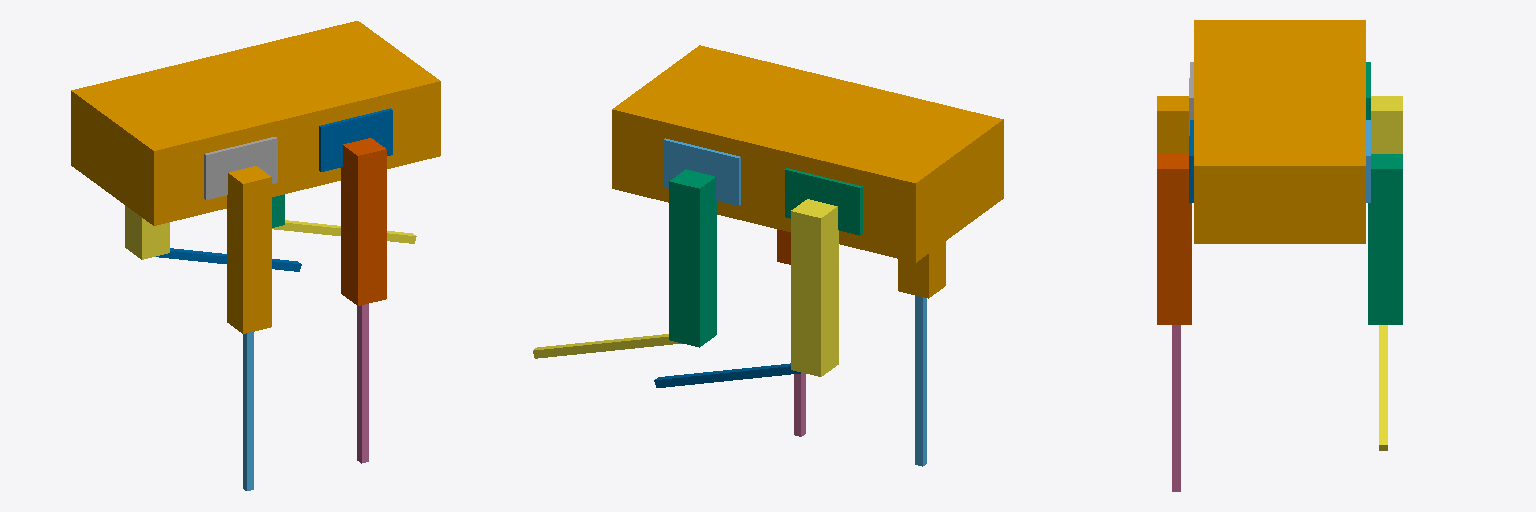
URDF robot description (robot):
<?xml version="1.0" ?>
<!-- =================================================================================== -->
<!-- |    This document was autogenerated by xacro from fixed_urdf.urdf.xacro          | -->
<!-- |    EDITING THIS FILE BY HAND IS NOT RECOMMENDED                                 | -->
<!-- =================================================================================== -->
<robot name="robot">
  <link name="base_link">
    <inertial auto="true"/>
    <visual>
      <geometry>
        <box size="0.254 0.127 0.0635"/>
      </geometry>
    </visual>
    <collision>
      <density>1240.0</density>
      <geometry>
        <box size="0.254 0.127 0.0635"/>
      </geometry>
    </collision>
  </link>
  <!-- <link name="lidar_link">
    <visual>
      <geometry>
        <box size="0.080 0.060 0.050"/>
      </geometry>
    </visual>
    <inertial>
      <origin xyz="0.000 0.000 0.000" rpy ="0.000 0.000 0.000"/>
      <mass value="0.050"/>
      <inertia ixx="0.00092" ixy="0.00000" ixz="0.00001" iyy="0.00094" iyz="0.00000" izz="0.00093"/>
    </inertial>
    <collision>
      <origin xyz="0.010 0.000 -0.015" rpy ="0.000 0.000 0.000"/>
      <geometry>
        <box size="0.080 0.060 0.050"/>
      </geometry>
    </collision>
  </link> -->
  <!-- FL -->
  <joint name="hip_fl" type="revolute">
    <limit effort="100" lower="-0.2" upper="0.4" velocity="10"/>
    <origin rpy="0 0 0" xyz="0.0508 0.0508 0"/>
    <parent link="base_link"/>
    <child link="hipbone_fl"/>
  </joint>
  <link name="hipbone_fl">
    <inertial auto="true"/>
    <visual>
      <origin rpy="0 0 0" xyz=" 0.0 0.0 0"/>
      <geometry>
        <box size="0.0635 0.03175 0.0381"/>
      </geometry>
    </visual>
    <collision>
      <origin rpy="0 0 0" xyz=" 0.0 0.0 0"/>
      <geometry>
        <box size="0.0635 0.03175 0.0381"/>
      </geometry>
    </collision>
  </link>
  <joint name="shoulder_fl" type="revolute">
    <limit effort="100" lower="-0.1" upper="0.5" velocity="10"/>
    <origin rpy="0 0 0" xyz="0 0 0"/>
    <axis xyz="0 1 0"/>
    <parent link="hipbone_fl"/>
    <child link="femur_fl"/>
  </joint>
  <link name="femur_fl">
    <inertial auto="true"/>
    <visual>
      <origin rpy="0 0 0" xyz="0.0 0.027 -0.0635"/>
      <geometry>
        <box size="0.0254 0.0254 0.127"/>
      </geometry>
    </visual>
    <collision>
      <origin rpy="0 0 0" xyz="0.0 0.027 -0.0635"/>
      <geometry>
        <box size="0.0254 0.0254 0.127"/>
      </geometry>
    </collision>
  </link>
  <joint name="knee_fl" type="revolute">
    <limit effort="100" lower="-2" upper="-0.5" velocity="10"/>
    <origin rpy="0 0 1.57" xyz="0 0 -0.127"/>
    <parent link="femur_fl"/>
    <child link="tibia_fl"/>
  </joint>
  <link name="tibia_fl">
    <inertial auto="true"/>
    <visual>
      <origin rpy="0 0 0" xyz="0.0254 0.0 -0.06985"/>
      <geometry>
        <box size="0.00635 0.00635 0.1397"/>
      </geometry>
    </visual>
    <collision>
      <origin rpy="0 0 0" xyz="0.0254 0.0 -0.06985"/>
      <geometry>
        <box size="0.00635 0.00635 0.1397"/>
      </geometry>
    </collision>
  </link>
  <!-- FR -->
  <joint name="hip_fr" type="revolute">
    <limit effort="100" lower="-0.2" upper="0.4" velocity="10"/>
    <origin rpy="0 0 3.14" xyz="0.0508 -0.0508 0"/>
    <parent link="base_link"/>
    <child link="hipbone_fr"/>
  </joint>
  <link name="hipbone_fr">
    <inertial auto="true"/>
    <visual>
      <origin rpy="0 0 0" xyz=" 0.0 0.0 0"/>
      <geometry>
        <box size="0.0635 0.03175 0.0381"/>
      </geometry>
    </visual>
    <collision>
      <origin rpy="0 0 0" xyz=" 0.0 0.0 0"/>
      <geometry>
        <box size="0.0635 0.03175 0.0381"/>
      </geometry>
    </collision>
  </link>
  <joint name="shoulder_fr" type="revolute">
    <limit effort="100" lower="-0.5" upper="0.1" velocity="10"/>
    <origin rpy="0 0 0" xyz="0 0 0"/>
    <axis xyz="0 1 0"/>
    <parent link="hipbone_fr"/>
    <child link="femur_fr"/>
  </joint>
  <link name="femur_fr">
    <inertial auto="true"/>
    <visual>
      <origin rpy="0 0 0" xyz="0.0 0.027 -0.0635"/>
      <geometry>
        <box size="0.0254 0.0254 0.127"/>
      </geometry>
    </visual>
    <collision>
      <origin rpy="0 0 0" xyz="0.0 0.027 -0.0635"/>
      <geometry>
        <box size="0.0254 0.0254 0.127"/>
      </geometry>
    </collision>
  </link>
  <joint name="knee_fr" type="revolute">
    <limit effort="100" lower="-0.5" upper="2" velocity="10"/>
    <origin rpy="0 0 1.57" xyz="0 0 -0.127"/>
    <parent link="femur_fr"/>
    <child link="tibia_fr"/>
  </joint>
  <link name="tibia_fr">
    <inertial auto="true"/>
    <visual>
      <origin rpy="0 0 0" xyz="0.0254 0.0 -0.06985"/>
      <geometry>
        <box size="0.00635 0.00635 0.1397"/>
      </geometry>
    </visual>
    <collision>
      <origin rpy="0 0 0" xyz="0.0254 0.0 -0.06985"/>
      <geometry>
        <box size="0.00635 0.00635 0.1397"/>
      </geometry>
    </collision>
  </link>
  <!-- BR -->
  <joint name="hip_br" type="revolute">
    <limit effort="100" lower="-0.2" upper="0.4" velocity="10"/>
    <origin rpy="0 0 3.14" xyz="-0.0508 -0.0508 0"/>
    <parent link="base_link"/>
    <child link="hipbone_br"/>
  </joint>
  <link name="hipbone_br">
    <inertial auto="true"/>
    <visual>
      <origin rpy="0 0 0" xyz=" 0.0 0.0 0"/>
      <geometry>
        <box size="0.0635 0.03175 0.0381"/>
      </geometry>
    </visual>
    <collision>
      <origin rpy="0 0 0" xyz=" 0.0 0.0 0"/>
      <geometry>
        <box size="0.0635 0.03175 0.0381"/>
      </geometry>
    </collision>
  </link>
  <joint name="shoulder_br" type="revolute">
    <limit effort="100" lower="-0.5" upper="0.1" velocity="10"/>
    <origin rpy="0 0 0" xyz="0 0 0"/>
    <axis xyz="0 1 0"/>
    <parent link="hipbone_br"/>
    <child link="femur_br"/>
  </joint>
  <link name="femur_br">
    <inertial auto="true"/>
    <visual>
      <origin rpy="0 0 0" xyz="0.0 0.027 -0.0635"/>
      <geometry>
        <box size="0.0254 0.0254 0.127"/>
      </geometry>
    </visual>
    <collision>
      <origin rpy="0 0 0" xyz="0.0 0.027 -0.0635"/>
      <geometry>
        <box size="0.0254 0.0254 0.127"/>
      </geometry>
    </collision>
  </link>
  <joint name="knee_br" type="revolute">
    <limit effort="100" lower="-0.5" upper="2" velocity="10"/>
    <origin rpy="0 0 1.57" xyz="0 0 -0.127"/>
    <parent link="femur_br"/>
    <child link="tibia_br"/>
  </joint>
  <link name="tibia_br">
    <inertial auto="true"/>
    <visual>
      <origin rpy="0 0 0" xyz="0.0254 0.0 -0.06985"/>
      <geometry>
        <box size="0.00635 0.00635 0.1397"/>
      </geometry>
    </visual>
    <collision>
      <origin rpy="0 0 0" xyz="0.0254 0.0 -0.06985"/>
      <geometry>
        <box size="0.00635 0.00635 0.1397"/>
      </geometry>
    </collision>
  </link>
  <!-- BL -->
  <joint name="hip_bl" type="revolute">
    ]
        
    <limit effort="100" lower="-0.2" upper="0.4" velocity="10"/>
    <origin rpy="0 0 0" xyz="-0.0508 0.0508 0"/>
    <parent link="base_link"/>
    <child link="hipbone_bl"/>
  </joint>
  <link name="hipbone_bl">
    <inertial auto="true"/>
    <visual>
      <origin rpy="0 0 0" xyz=" 0.0 0.0 0"/>
      <geometry>
        <box size="0.0635 0.03175 0.0381"/>
      </geometry>
    </visual>
    <collision>
      <origin rpy="0 0 0" xyz=" 0.0 0.0 0"/>
      <geometry>
        <box size="0.0635 0.03175 0.0381"/>
      </geometry>
    </collision>
  </link>
  <joint name="shoulder_bl" type="revolute">
    <limit effort="100" lower="-0.1" upper="0.5" velocity="10"/>
    <origin rpy="0 0 0" xyz="0 0 0"/>
    <axis xyz="0 1 0"/>
    <parent link="hipbone_bl"/>
    <child link="femur_bl"/>
  </joint>
  <link name="femur_bl">
    <inertial auto="true"/>
    <visual>
      <origin rpy="0 0 0" xyz="0.0 0.027 -0.0635"/>
      <geometry>
        <box size="0.0254 0.0254 0.127"/>
      </geometry>
    </visual>
    <collision>
      <origin rpy="0 0 0" xyz="0.0 0.027 -0.0635"/>
      <geometry>
        <box size="0.0254 0.0254 0.127"/>
      </geometry>
    </collision>
  </link>
  <joint name="knee_bl" type="revolute">
    <limit effort="100" lower="-2" upper="-0.5" velocity="10"/>
    <origin rpy="0 0 1.57" xyz="0 0 -0.127"/>
    <parent link="femur_bl"/>
    <child link="tibia_bl"/>
  </joint>
  <link name="tibia_bl">
    <inertial auto="true"/>
    <visual>
      <origin rpy="0 0 0" xyz="0.0254 0.0 -0.06985"/>
      <geometry>
        <box size="0.00635 0.00635 0.1397"/>
      </geometry>
    </visual>
    <collision>
      <origin rpy="0 0 0" xyz="0.0254 0.0 -0.06985"/>
      <geometry>
        <box size="0.00635 0.00635 0.1397"/>
      </geometry>
    </collision>
  </link>
</robot>

--- Render facts (derived) ---
Views: 3 orthographic renders of the robot side by side, from view 1: azimuth 30°, elevation 25°; view 2: azimuth 150°, elevation 25°; view 3: azimuth 270°, elevation 25°.
Robot: robot — 13 links, 12 joints (12 revolute); root link base_link; default pose: all joints at 0 but 2 set to mid-range because 0 is outside their limits (knee_fl = -1.25, knee_bl = -1.25).
Links seen in each view (by area): view 1: base_link, femur_fr, femur_br, hipbone_fr, hipbone_br, tibia_fr, tibia_br, femur_bl, tibia_bl, tibia_fl; view 2: base_link, femur_fl, femur_bl, hipbone_fl, hipbone_bl, tibia_br, femur_br, tibia_fl, tibia_bl, tibia_fr; view 3: base_link, femur_fl, femur_fr, femur_br, femur_bl, tibia_fr, tibia_fl.
Boxes of the visible links, bbox=[...] form: base_link: bbox=[71, 21, 440, 225]; femur_fr: bbox=[341, 138, 386, 305]; femur_br: bbox=[227, 166, 271, 333]; hipbone_fr: bbox=[319, 108, 392, 171]; hipbone_br: bbox=[204, 137, 277, 199]; tibia_fr: bbox=[357, 304, 368, 463]; tibia_br: bbox=[243, 332, 253, 490]; femur_bl: bbox=[125, 205, 169, 259]; tibia_bl: bbox=[156, 248, 301, 271]; tibia_fl: bbox=[272, 220, 416, 243]; base_link: bbox=[612, 45, 1003, 262]; femur_fl: bbox=[669, 169, 716, 347]; femur_bl: bbox=[791, 199, 838, 376]; hipbone_fl: bbox=[663, 138, 740, 205]; hipbone_bl: bbox=[785, 168, 862, 235]; tibia_br: bbox=[915, 295, 926, 466]; femur_br: bbox=[898, 241, 945, 298]; tibia_fl: bbox=[533, 334, 681, 358]; tibia_bl: bbox=[654, 363, 800, 387]; tibia_fr: bbox=[794, 373, 805, 436]; base_link: bbox=[1194, 20, 1365, 243]; femur_fl: bbox=[1368, 154, 1402, 324]; femur_fr: bbox=[1157, 154, 1191, 324]; femur_br: bbox=[1157, 96, 1188, 153]; femur_bl: bbox=[1371, 96, 1402, 153]; tibia_fr: bbox=[1172, 325, 1180, 491]; tibia_fl: bbox=[1379, 325, 1387, 450].
Size in the robot's own frame: 0.3114 by 0.181 by 0.2984 metres.
Geometry: primitives only (box / cylinder / sphere), no mesh files.
